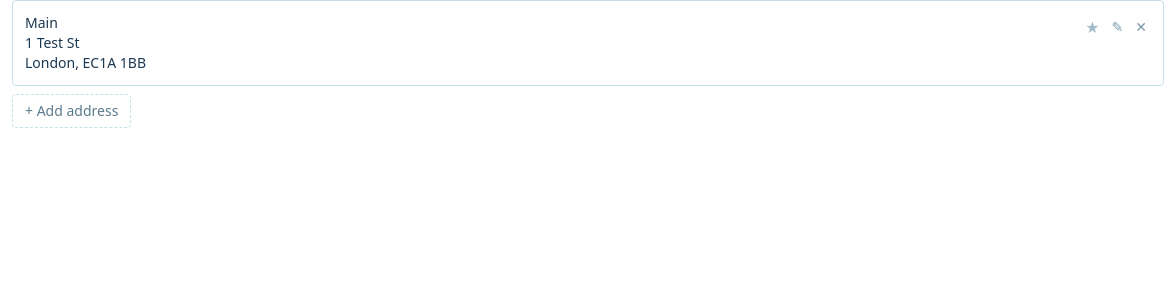
Scenario: AddressList — edit › clicking edit button shows form pre-filled with address data
Click the button titled "Edit". click: (1117, 27)
box: [1108,13,1127,41]
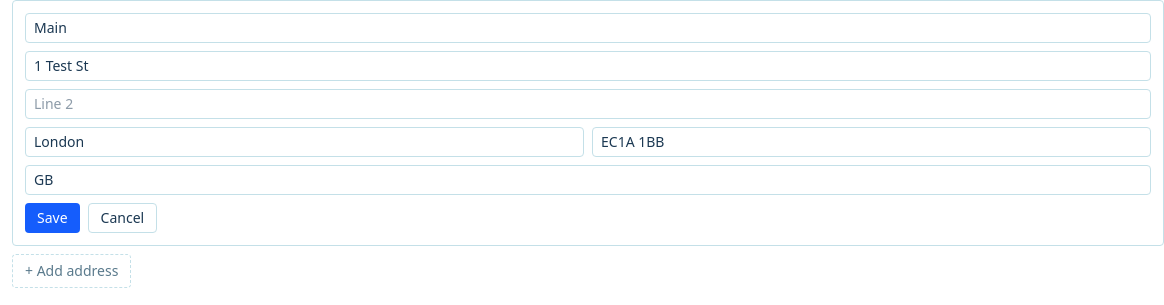
Now the 2nd field with placeholder "Line 1 *" holds "1 Test St", box [25,51,1151,81]
Now the 1st field with placeholder "Label (e.g. MAIN RECEPTION)" holds "Main", box [25,13,1151,43]
